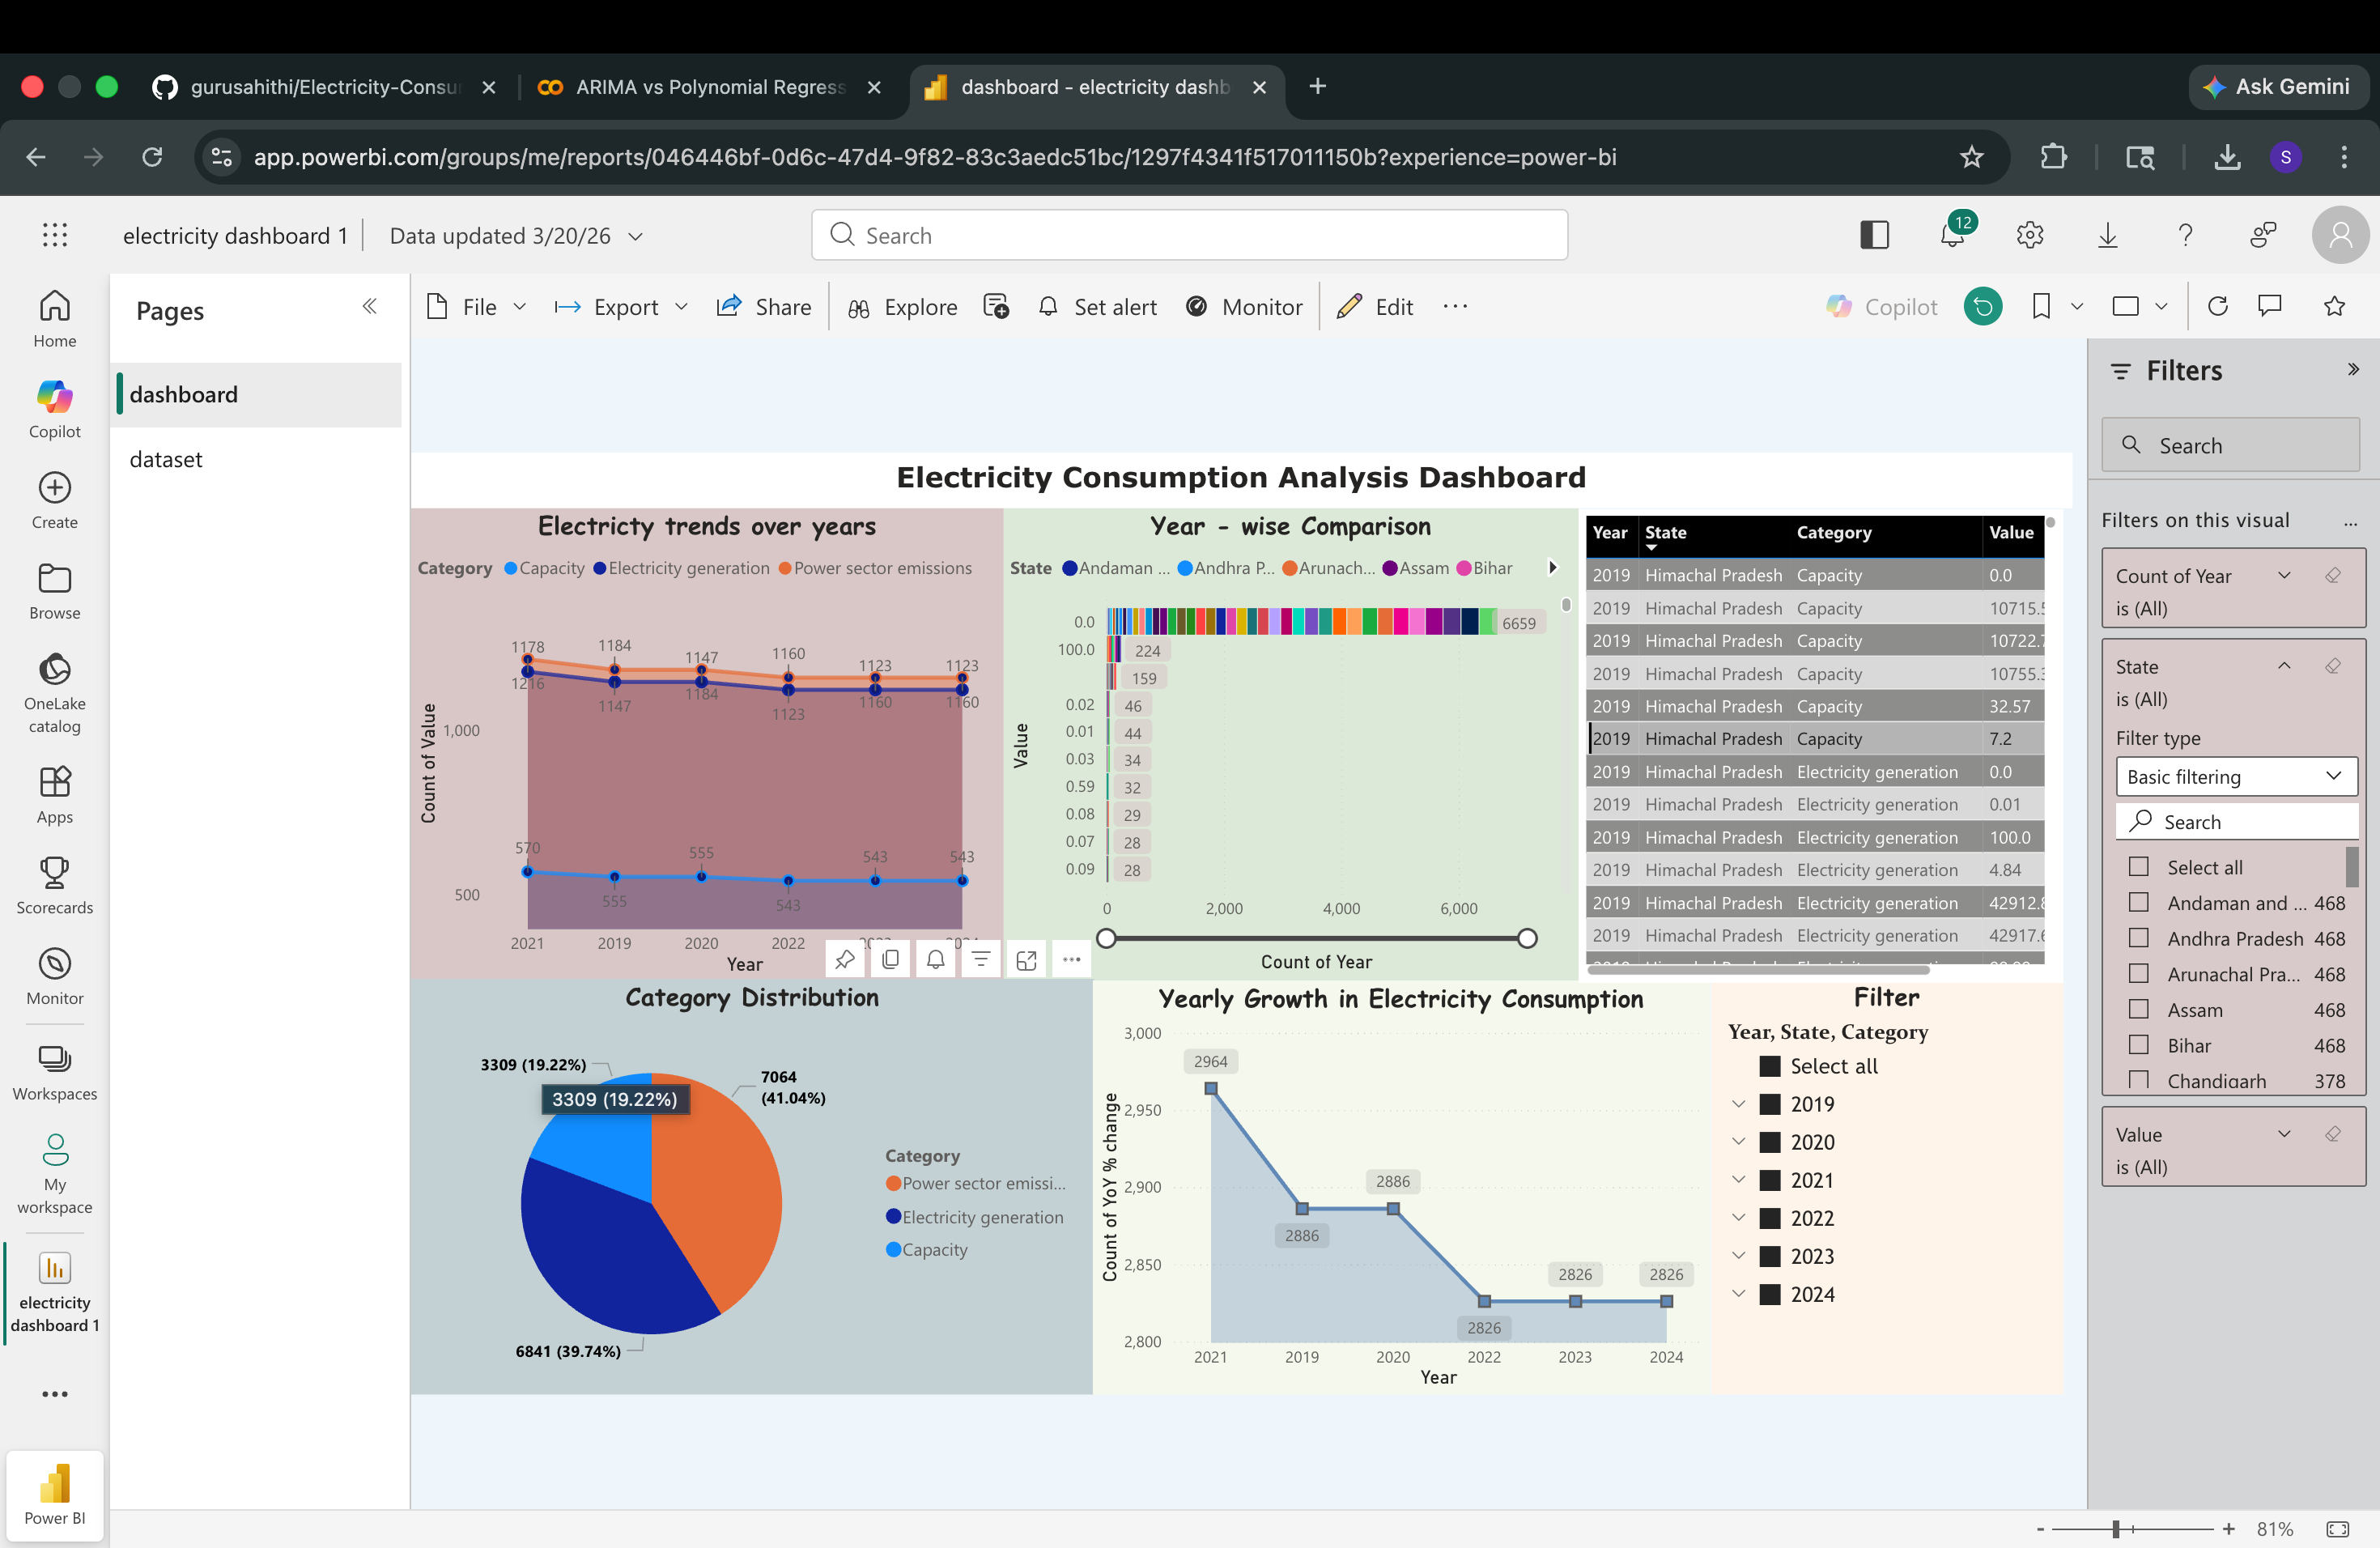

This screenshot's page, from the dashboard's own definition file:
{"tool":"powerbi","page":{"name":"dashboard","canvas":[1280,720],"ordinal":0},"visuals":[{"type":"lineChart","title":"Electricty trends over years","fields":{"Category":["india_yearly_full_release_long_format (1) 3.Year"],"Y":["CountNonNull(india_yearly_full_release_long_format (1) 3.Value)"],"Series":["india_yearly_full_release_long_format (1) 3.Category"]},"box":[0,42.5,452.5,361.2],"z":0},{"type":"barChart","title":"Year - wise Comparison","fields":{"Y":["CountNonNull(india_yearly_full_release_long_format (1) 3.Year)"],"Category":["india_yearly_full_release_long_format (1) 3.Value"],"Series":["india_yearly_full_release_long_format (1) 3.State"]},"box":[452.5,42.5,438.8,361.2],"z":1000},{"type":"pieChart","title":"Category Distribution","fields":{"Category":["india_yearly_full_release_long_format (1) 3.Category"],"Y":["CountNonNull(india_yearly_full_release_long_format (1) 3.Value)"]},"box":[0,402.5,521.2,317.5],"z":2000},{"type":"lineChart","title":"Yearly Growth in Electricity Consumption","fields":{"Category":["india_yearly_full_release_long_format (1) 3.Year"],"Y":["CountNonNull(india_yearly_full_release_long_format (1) 3.YoY % change)"]},"box":[521.2,403.8,471.2,316.2],"z":4000},{"type":"slicer","title":"Filter","fields":{"Values":["india_yearly_full_release_long_format (1) 3.Year","india_yearly_full_release_long_format (1) 3.State","india_yearly_full_release_long_format (1) 3.Category"]},"box":[992.5,402.5,268.8,317.5],"z":5000},{"type":"tableEx","fields":{"Values":["india_yearly_full_release_long_format (1) 3.Year","india_yearly_full_release_long_format (1) 3.State","india_yearly_full_release_long_format (1) 3.Category","india_yearly_full_release_long_format (1) 3.Value","india_yearly_full_release_long_format (1) 3.YoY % change"]},"box":[891.2,43.8,370,361.2],"z":6000},{"type":"textbox","box":[0,0,1268.8,42.5],"z":6001}]}

Visuals, with their boxes on the page's 1280x720 design canvas (x1, y1, x2, y2). These are canvas units, not pixel positions in the 2380x1548 screenshot, which may show the page scaled, cropped or inside an application window:
"Electricty trends over years" lineChart: pyautogui.locateOnScreen(0, 42, 452, 404)
"Year - wise Comparison" barChart: pyautogui.locateOnScreen(452, 42, 891, 404)
"Category Distribution" pieChart: pyautogui.locateOnScreen(0, 402, 521, 720)
"Yearly Growth in Electricity Consumption" lineChart: pyautogui.locateOnScreen(521, 404, 992, 720)
"Filter" slicer: pyautogui.locateOnScreen(992, 402, 1261, 720)
tableEx - india_yearly_full_release_long_format (1) 3.Year x india_yearly_full_release_long_format (1) 3.State: pyautogui.locateOnScreen(891, 44, 1261, 405)
textbox: pyautogui.locateOnScreen(0, 0, 1269, 42)
